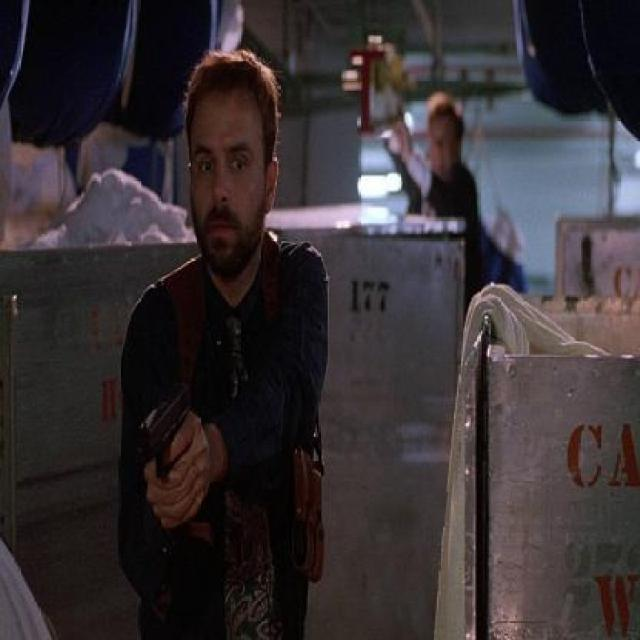guns: (110, 374, 204, 495)
